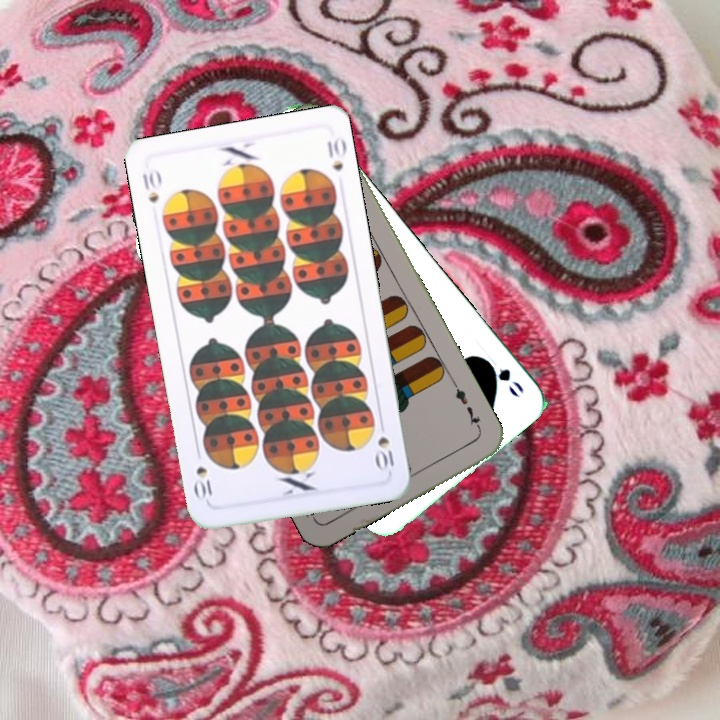E7: (450, 380, 485, 434)
GO: (478, 353, 527, 400)
S10: (367, 416, 397, 474), (138, 165, 164, 206)
